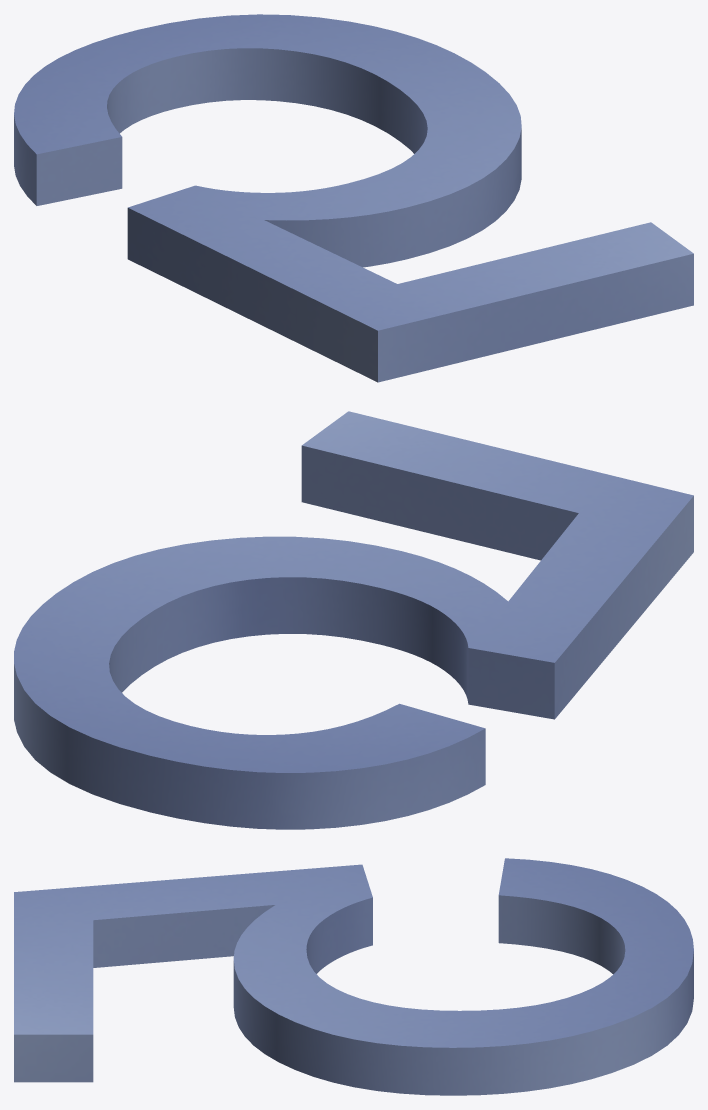
Rendered from five.obj.
3 views of the same model, one above another, from view 1: azimuth 30°, elevation 25°; view 2: azimuth 150°, elevation 25°; view 3: azimuth 270°, elevation 25° (orthographic). The views are drawn at different scales.
Parts seen in each view (by area): view 1: five; view 2: five; view 3: five.
Boxes of the visible parts, bbox=[...] form: five: bbox=[14, 14, 693, 382]; five: bbox=[14, 411, 693, 829]; five: bbox=[14, 858, 693, 1095].
Size of the model in its own units: 42.5 by 5 by 64.4.
Materials: 1 (1 with a texture image).
